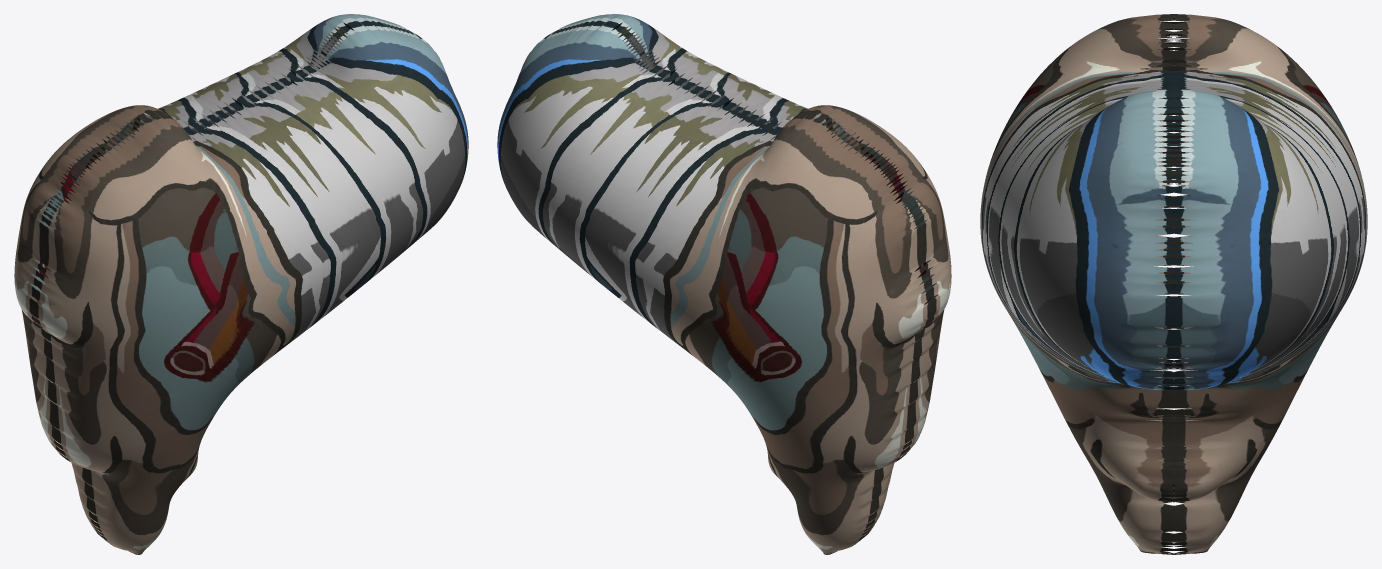
The model's file is capped_branch.glb.
3 renders of one model, left to right at view 1: azimuth 30°, elevation 25°; view 2: azimuth 150°, elevation 25°; view 3: azimuth 270°, elevation 25°, orthographic. The views are drawn at different scales.
Visible parts, largest first — view 1: capped_branch; view 2: capped_branch; view 3: capped_branch.
Boxes of the visible parts, bbox=[...] form: capped_branch: bbox=[14, 14, 468, 554]; capped_branch: bbox=[497, 14, 951, 554]; capped_branch: bbox=[980, 14, 1367, 554].
Bounding box in the file's own units: 0.9883 × 1.05 × 0.6145.
Materials: 1 (1 with a texture image).
